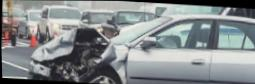Bonnet: (29, 28, 124, 65)
Bumper: (25, 65, 80, 82)
Fender: (37, 48, 128, 84)
